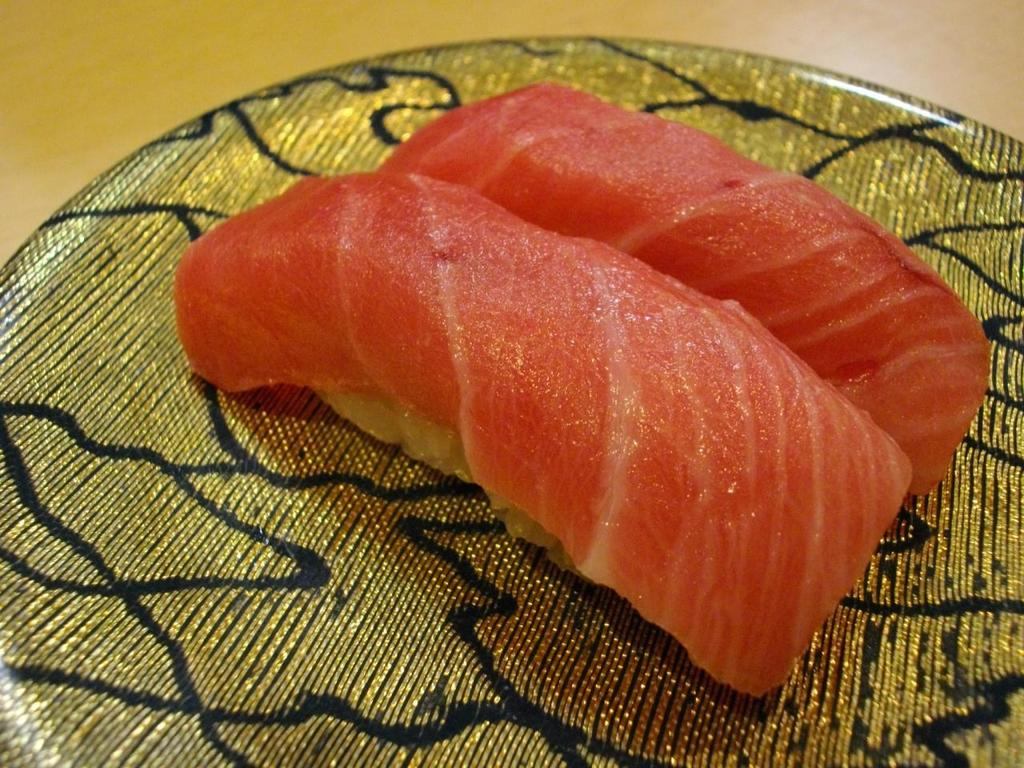sushi: (179, 166, 916, 696), (382, 82, 989, 500)
